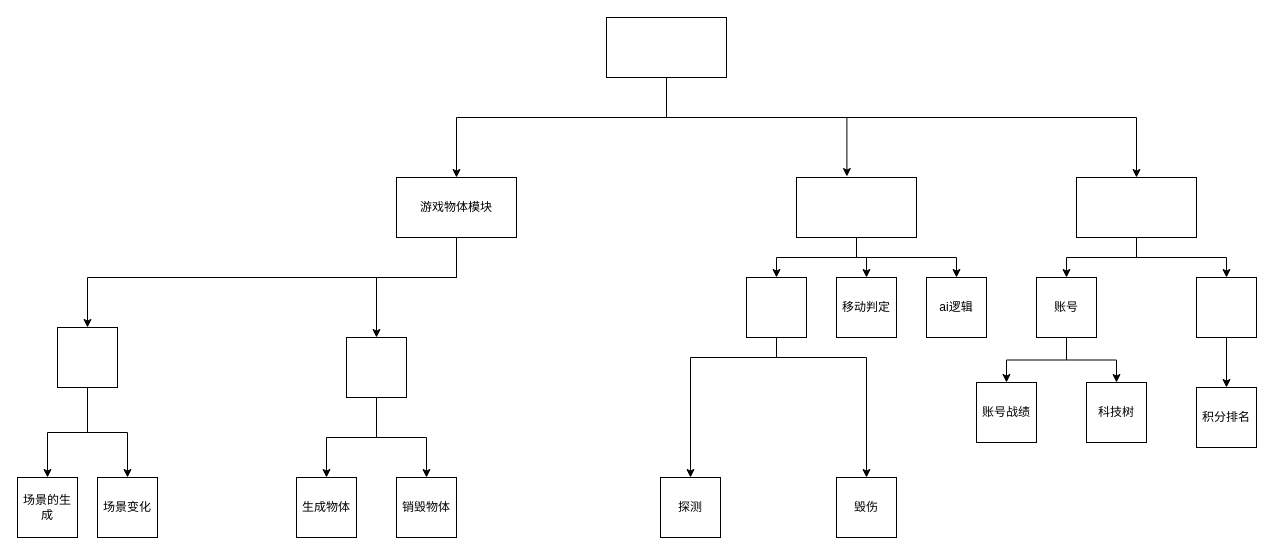
The diagram is 1274 pixels wide and 555 high, and some of its shapes have lost their labels. The shapes that lost their labels are listed below. From the top down, each one's centre as x and y in pixels, then its label:
At point 666,47: "游戏".
At point 856,207: "游戏机制模块".
At point 1136,207: "游戏养成模块".
At point 776,307: "攻防判定".
At point 1226,307: "积分".
At point 87,357: "场景".
At point 376,367: "物体".
